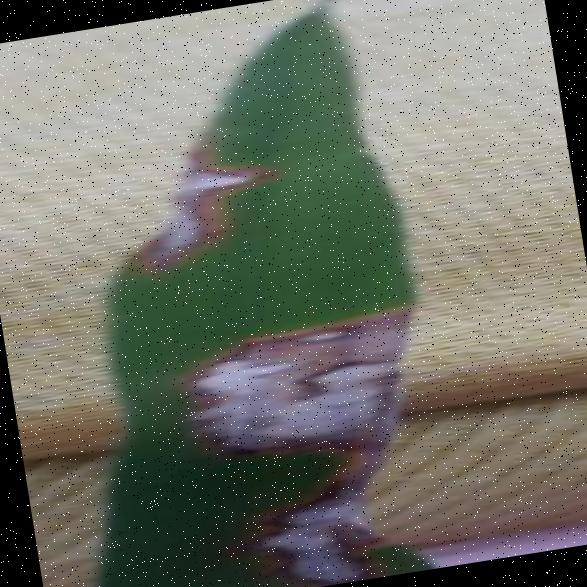Leaf_smut: (152, 284, 440, 482), (89, 136, 299, 292), (237, 466, 406, 587)
